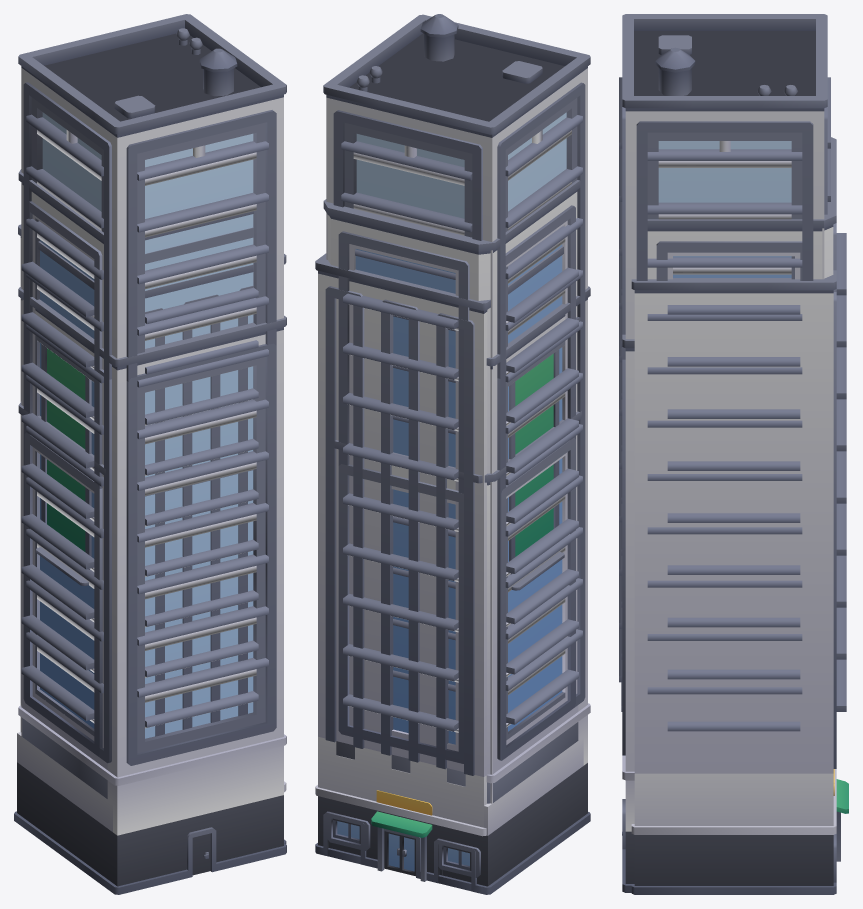
Rendered from island-core.glb.
The picture shows the model from 3 angles, left to right: view 1: azimuth 30°, elevation 25°; view 2: azimuth 150°, elevation 25°; view 3: azimuth 270°, elevation 25°; orthographic projection. The views are drawn at different scales.
Visible parts, largest first — view 1: building-skyscraper-d, building-skyscraper-c, building-skyscraper-b, building-skyscraper-e, building-skyscraper-a; view 2: building-skyscraper-e, building-skyscraper-b, building-skyscraper-d, building-skyscraper-a, building-skyscraper-c; view 3: building-skyscraper-e, building-skyscraper-d, building-skyscraper-b, building-skyscraper-c, building-skyscraper-a.
Boxes of the visible parts, x1,y1,x2,y2 form: building-skyscraper-d: (18,14,286,893); building-skyscraper-c: (18,287,286,894); building-skyscraper-b: (14,169,258,882); building-skyscraper-e: (18,224,286,844); building-skyscraper-a: (14,401,258,890); building-skyscraper-e: (315,246,564,893); building-skyscraper-b: (323,180,583,887); building-skyscraper-d: (323,14,590,884); building-skyscraper-a: (327,411,586,894); building-skyscraper-c: (371,286,590,881); building-skyscraper-e: (631,270,836,894); building-skyscraper-d: (619,14,845,892); building-skyscraper-b: (621,137,846,731); building-skyscraper-c: (619,334,848,892); building-skyscraper-a: (621,458,846,725).
Size of the model in its own units: 1.36 by 5.47 by 1.39.
1 material, 1 textured.
